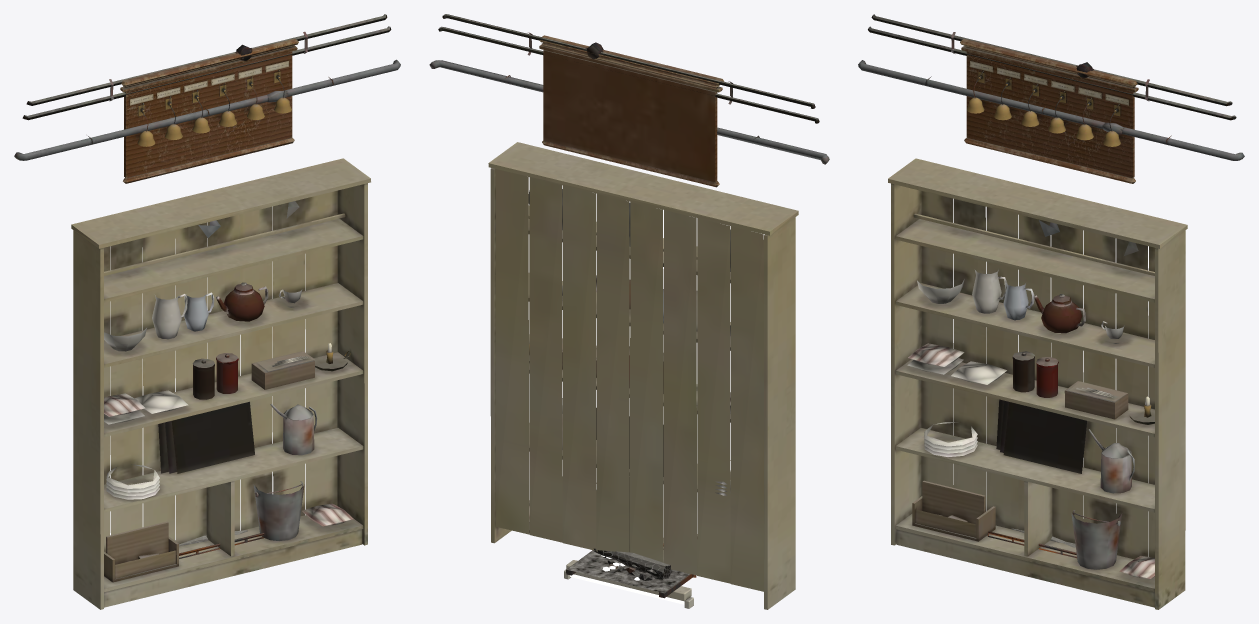
Rendered from common.glb.
3 views of the same model, side by side, from view 1: azimuth 30°, elevation 25°; view 2: azimuth 150°, elevation 25°; view 3: azimuth 330°, elevation 25° (orthographic). The views are drawn at different scales.
Visible parts, largest first — view 1: Band_service_shelf, Band_bell_board, Band_conduit, Fix_fire_embers; view 2: Band_service_shelf, Band_bell_board, Band_conduit, Fix_fire_embers, Fix_batten_light; view 3: Band_service_shelf, Band_bell_board, Band_conduit, Fix_fire_embers.
Boxes of the visible parts, <box> form: Band_service_shelf: <box>71,158,370,609</box>; Band_bell_board: <box>120,38,298,183</box>; Band_conduit: <box>14,14,400,160</box>; Fix_fire_embers: <box>175,530,264,558</box>; Band_service_shelf: <box>488,142,798,609</box>; Band_bell_board: <box>539,35,723,187</box>; Band_conduit: <box>429,14,829,164</box>; Fix_fire_embers: <box>566,543,696,598</box>; Fix_batten_light: <box>564,560,693,608</box>; Band_service_shelf: <box>888,158,1187,609</box>; Band_bell_board: <box>960,39,1138,183</box>; Band_conduit: <box>858,14,1244,160</box>; Fix_fire_embers: <box>987,528,1076,558</box>.
Bounding box in the file's own units: 1.98 × 2.55 × 0.37.
5 materials, 4 textured.
